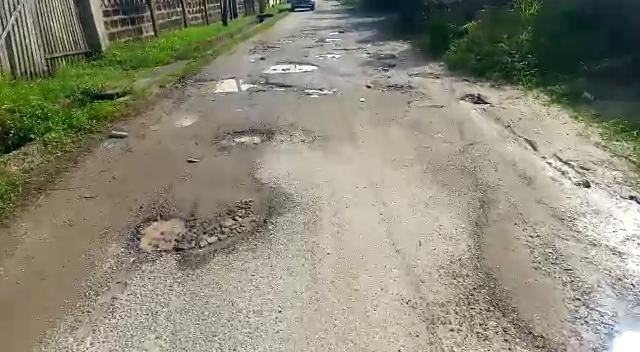pothole: (127, 198, 284, 262), (191, 77, 297, 93), (215, 126, 276, 147), (264, 61, 321, 74), (302, 86, 335, 96)
